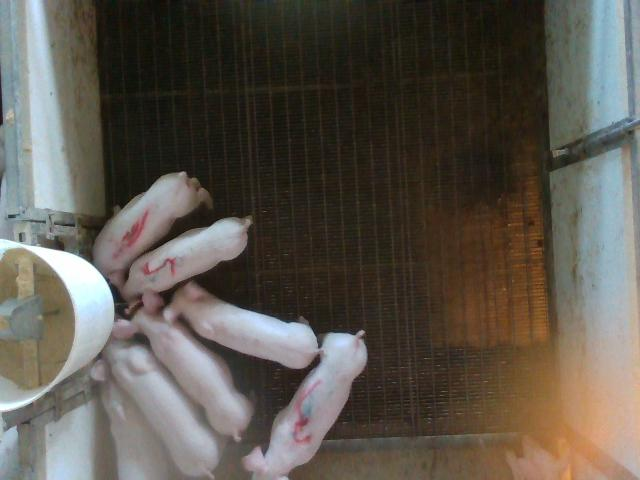pig-1: (92, 171, 212, 289)
pig-3: (242, 330, 368, 479)
pig-5: (122, 216, 252, 314)
